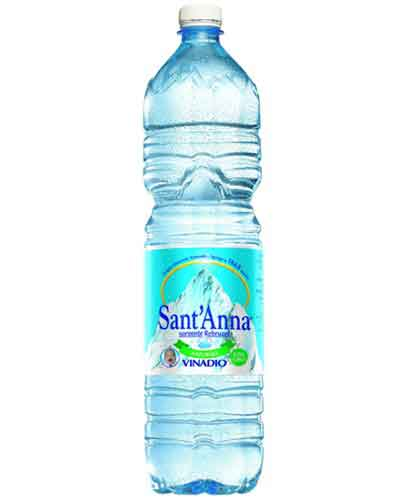PlasticBottle: (129, 4, 267, 493)
